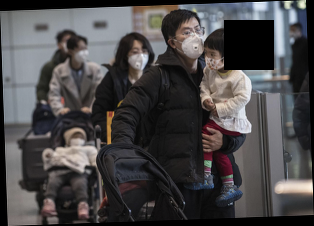with_mask: (176, 22, 204, 59), (129, 44, 150, 70), (204, 46, 224, 72), (75, 41, 92, 64), (68, 132, 86, 148)
